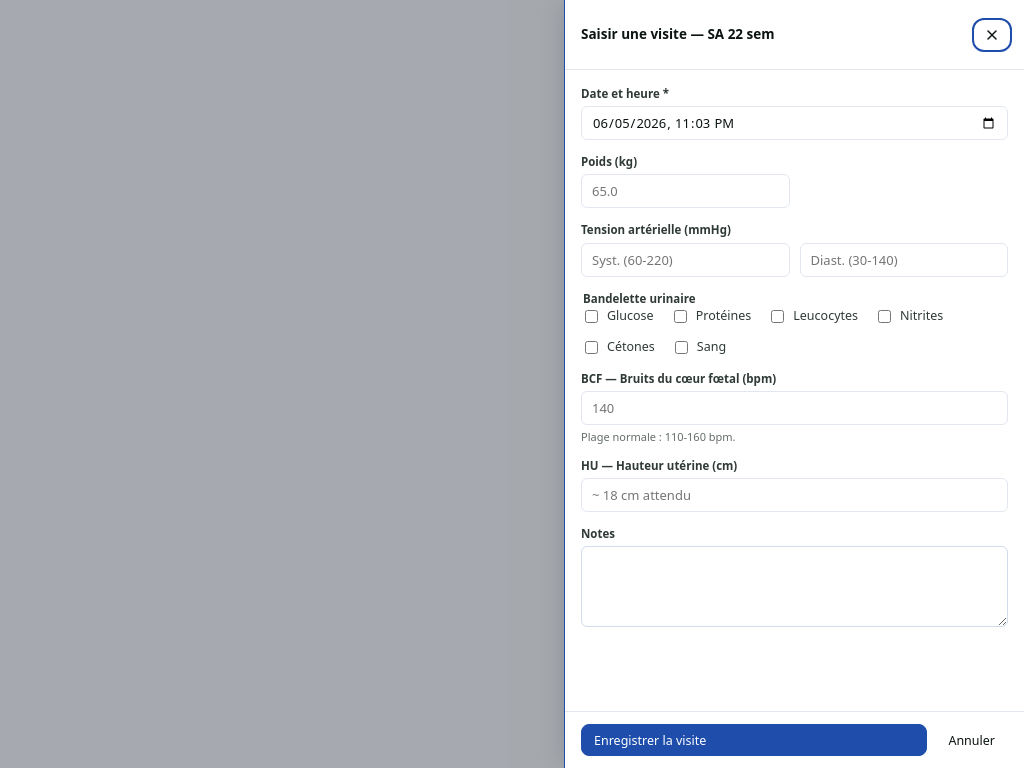
PregnancyVisitDrawer — contextual fields › shows TA range error when systolic out of range
Type "250" into the number field named "TA systolique". click: (685, 260)
box: [581,243,790,277]
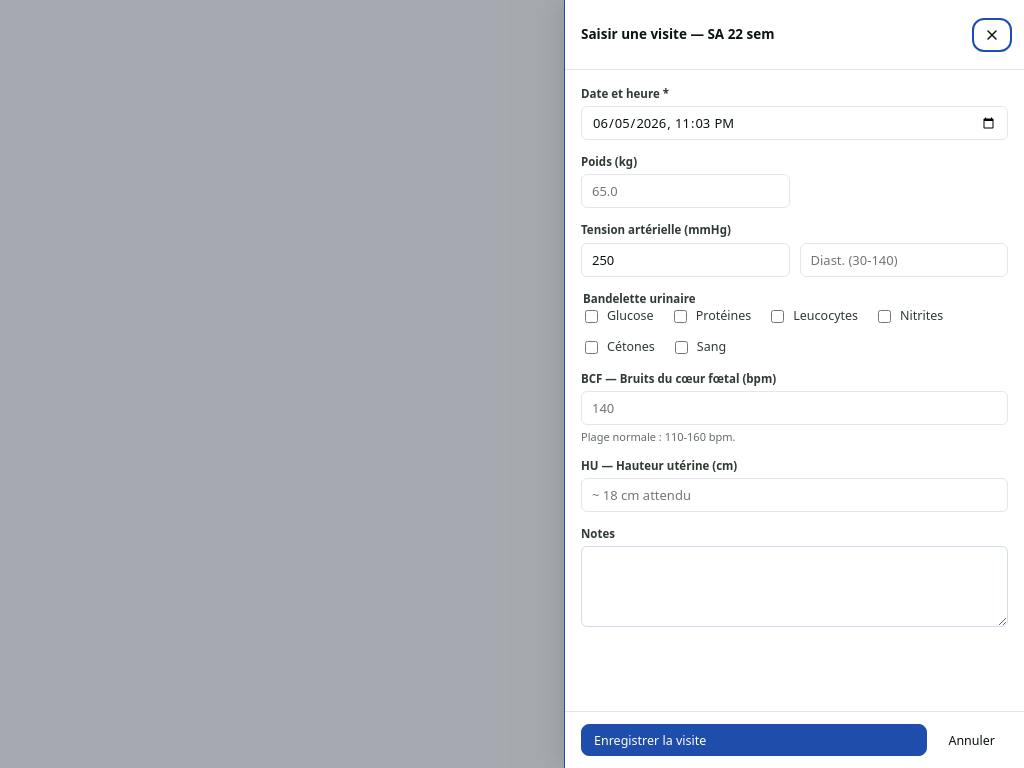
Submit the form named "TA systolique", box [565,70,1023,711]
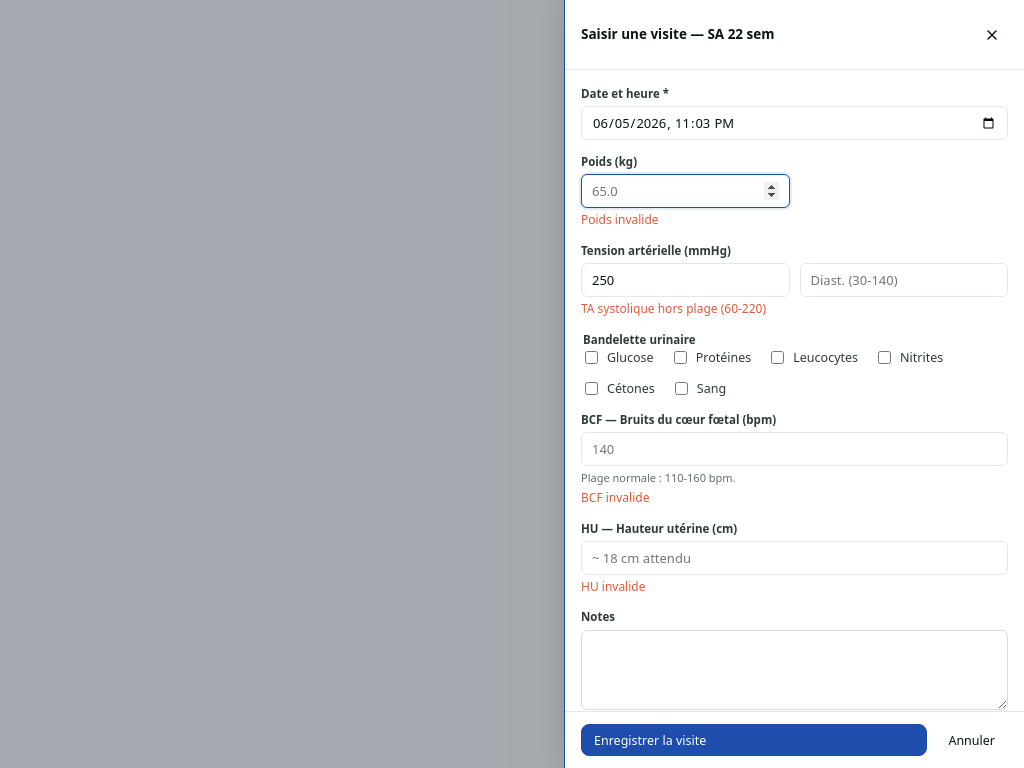
Now the text "TA systolique hors plage (60-220)" is shown, box [581,300,766,317]
